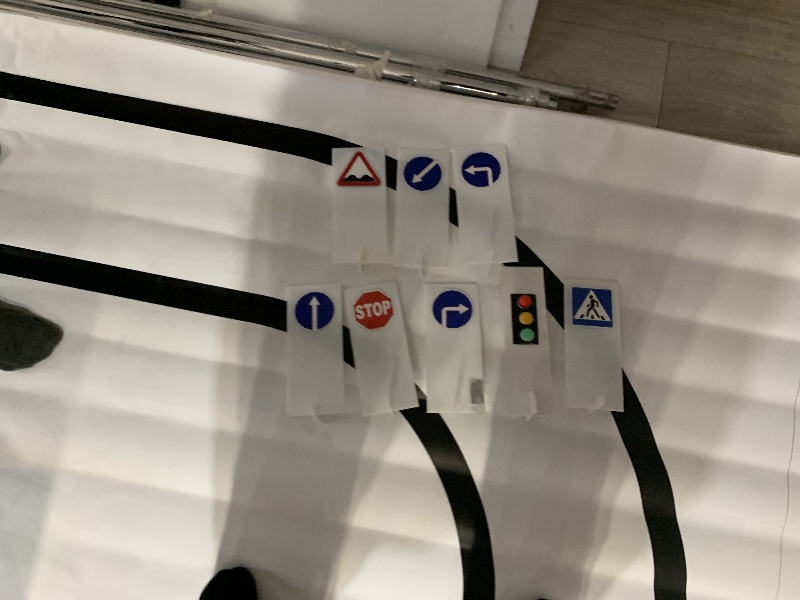Left: (458, 151, 502, 190)
Nerov: (339, 150, 383, 191)
Right: (433, 287, 474, 330)
Stop: (354, 289, 396, 331)
forw: (295, 292, 334, 329)
pesh: (569, 284, 614, 328)
prep: (401, 154, 442, 190)
